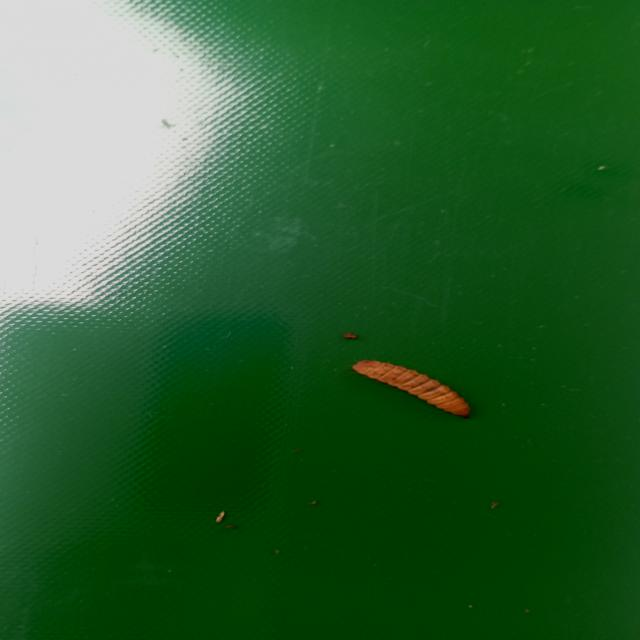Maggot: (352, 360, 473, 419)
